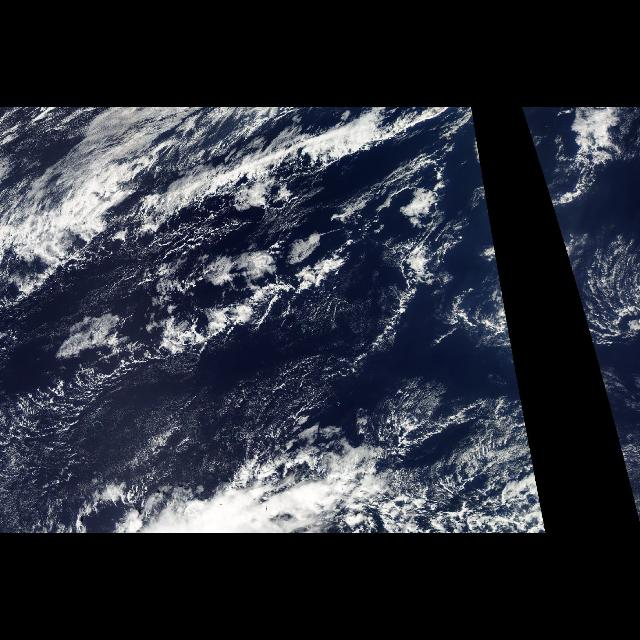Fish: (140, 108, 412, 225), (153, 252, 350, 354)
Sugar: (130, 361, 340, 454), (380, 373, 534, 455)
